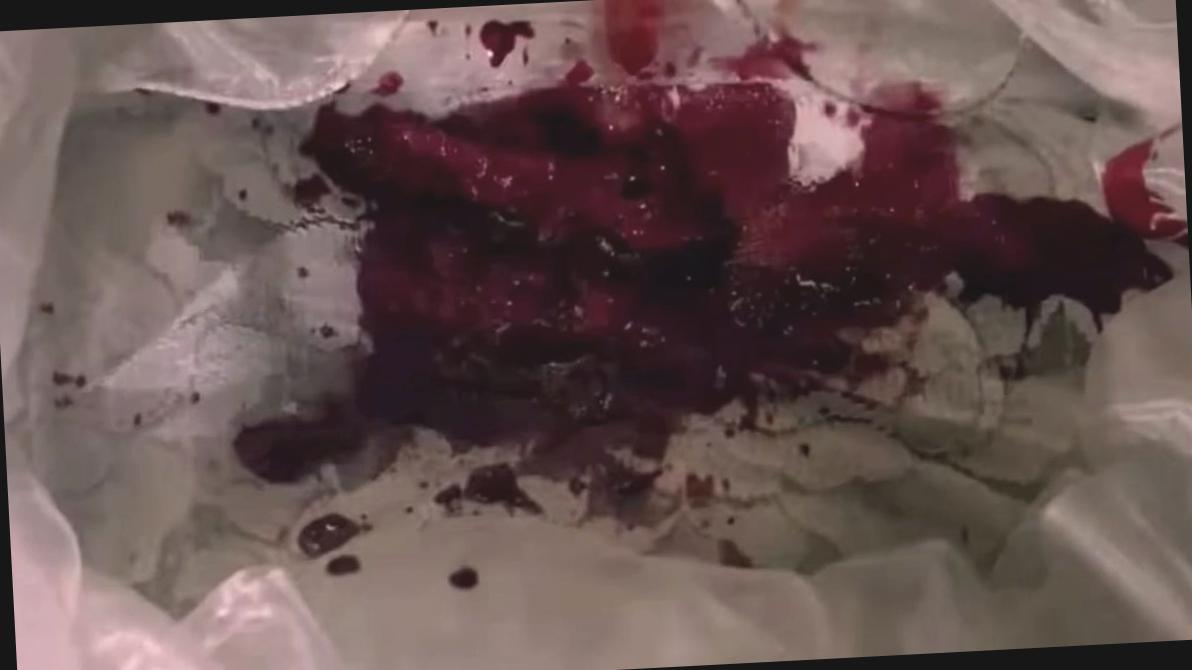Fire: (4, 0, 1192, 670)
